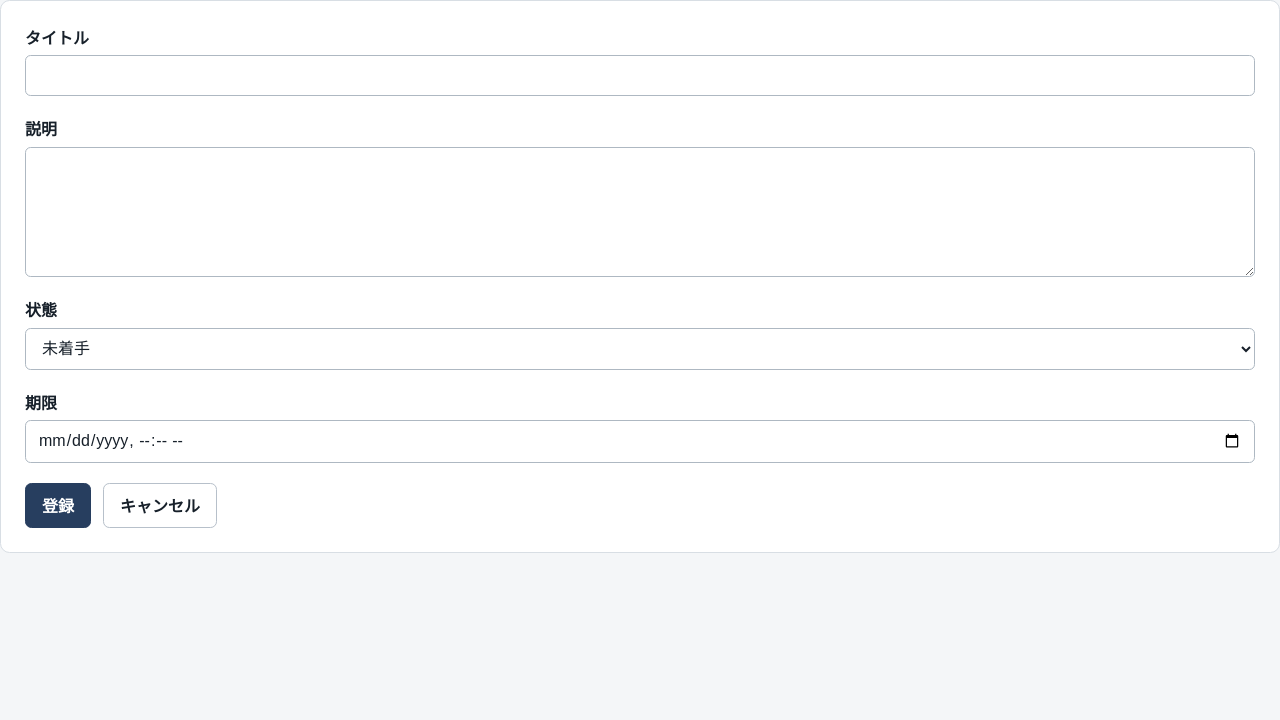
Test: TaskForm › shows API error message
Type "Task" into the field labelled "タイトル" at (640, 76), box [25,55,1255,96]
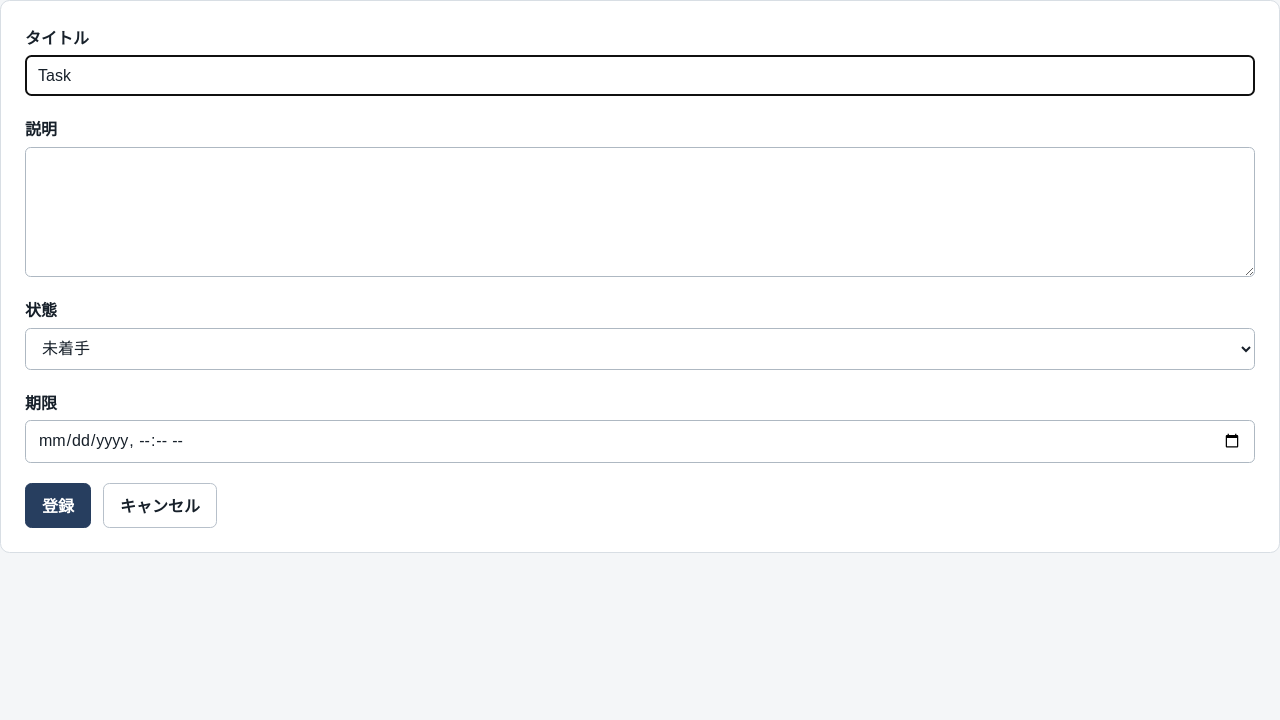
Click the button "登録" at (58, 505), box [25,483,91,528]
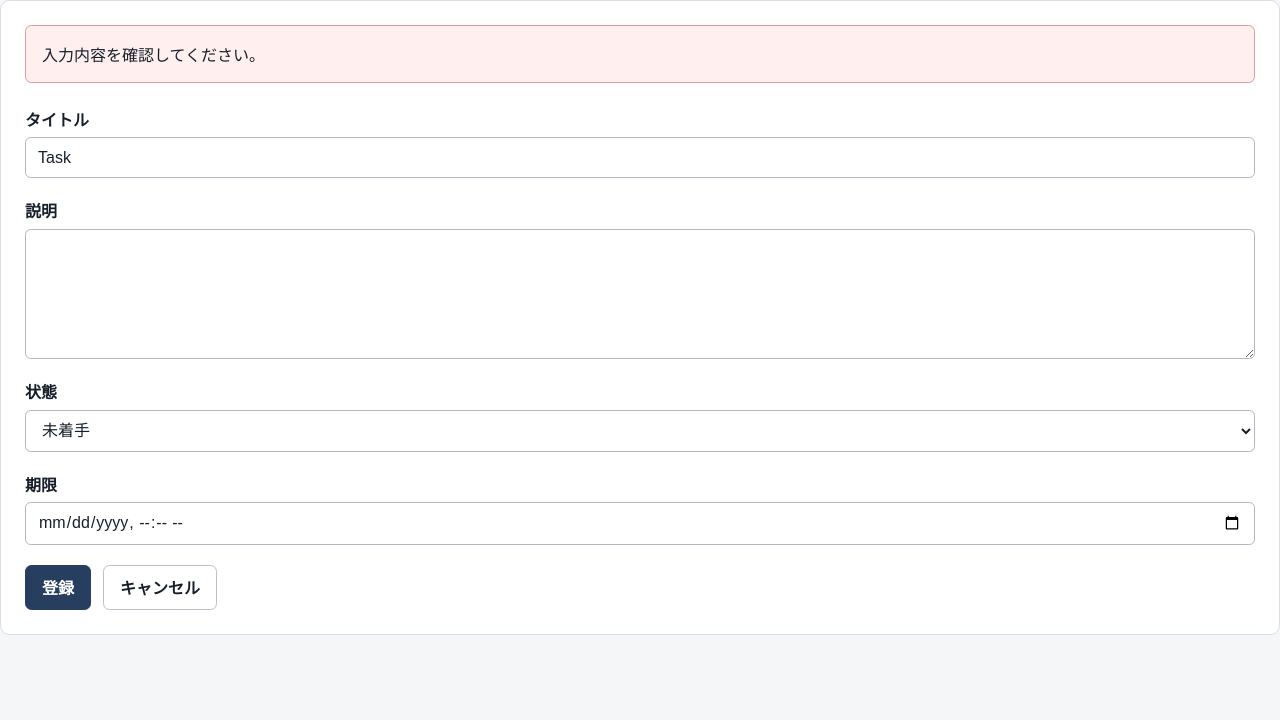
Result: the message reads "入力内容を確認してください。" at [42,47,265,64]
